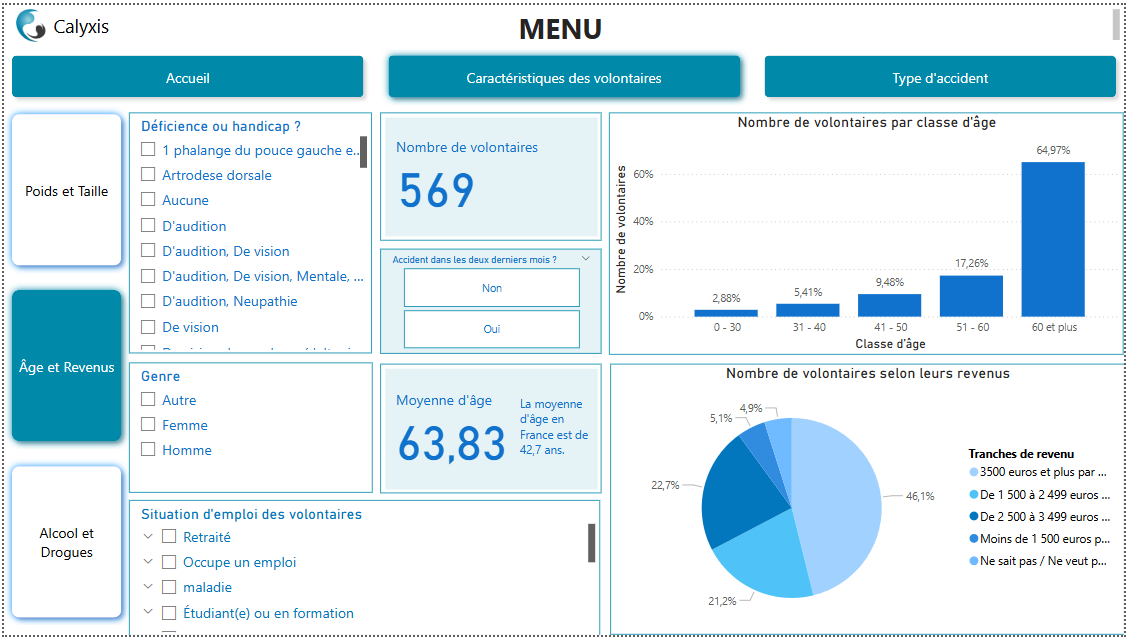

The page's visual inventory and layout, read from the dashboard file:
{"tool":"powerbi","page":{"name":"Caractéristiques des volontaires","canvas":[1280,720],"ordinal":1},"visuals":[{"type":"pageNavigator","box":[0,48.4,1280,66.4],"z":0},{"type":"textbox","box":[0,0,1280,48.6],"z":1000},{"type":"cardVisual","fields":{"Data":["CountNonNull(df_accident_complet.VOLONTAIRE N°)"]},"box":[429.5,123.3,253,146.7],"z":2000},{"type":"bookmarkNavigator","box":[0,115,143,594],"z":5000},{"type":"slicer","fields":{"Values":["df_accident_complet.Dans les deux dernier mois, avez-vous été victime d'un accident de la vie courante ?"]},"box":[429.5,278.5,253,120.1],"z":6000},{"type":"slicer","fields":{"Values":["df_bdq_nettoyé.Souffrez-vous d'une déficience ou d'un handicap ?"]},"box":[143.5,123.3,277.5,275.3],"z":7000},{"type":"image","box":[0,0,62.7,48.4],"z":12000},{"type":"textbox","box":[51.9,4.5,238.2,38.5],"z":13000},{"type":"clusteredColumnChart","title":"Nombre de volontaires par classe d''âge","fields":{"Category":["df_bdq_nettoyé.classe_age"],"Y":["CountNonNull(df_bdq_nettoyé.VOLONTAIRE N°)"]},"box":[691.9,123.3,588.1,276.5],"z":14000},{"type":"cardVisual","title":"moyenne d''age","fields":{"Data":["Avg(df_bdq_nettoyé.ÂGE)"]},"box":[430,410,253,148],"z":15000},{"type":"slicer","fields":{"Values":["df_bdq_nettoyé.GENRE"]},"box":[142.9,408.6,278.6,148.6],"z":18000},{"type":"textbox","title":"moyenneagetexte","box":[584,442,90,102],"z":19000},{"type":"pieChart","title":"Nombre de volontaires selon leurs revenus","fields":{"Category":["df_bdq_nettoyé.Parmi les tranches suivantes, dans laquelle se situe le revenu mensuel net de vo"],"Y":["CountNonNull(df_bdq_nettoyé.VOLONTAIRE N°)"]},"box":[692.4,410.2,587.6,309.2],"z":22000},{"type":"slicer","fields":{"Values":["df_bdq_nettoyé.Quelle est votre situation actuelle par rapport à l'emploi ? (groupes)","df_bdq_nettoyé.VOLONTAIRE N°"]},"box":[143.4,565.4,538.6,155],"z":23000}]}

Visuals, with their boxes in screenshot pixels (x1, y1, x2, y2), scaled from the page's 1280x720 canvas onto the 1126x638 screenshot:
pageNavigator: [left=0, top=43, right=1125, bottom=102]
textbox: [left=0, top=0, right=1125, bottom=43]
cardVisual - CountNonNull(df_accident_complet.VOLONTAIRE N°): [left=378, top=109, right=600, bottom=239]
bookmarkNavigator: [left=0, top=102, right=126, bottom=628]
slicer - df_accident_complet.Dans les deux dernier mois, avez-vous été victime d'un accident de la vie courante ?: [left=378, top=247, right=600, bottom=353]
slicer - df_bdq_nettoyé.Souffrez-vous d'une déficience ou d'un handicap ?: [left=126, top=109, right=370, bottom=353]
image: [left=0, top=0, right=55, bottom=43]
textbox: [left=46, top=4, right=255, bottom=38]
"Nombre de volontaires par classe d''âge" clusteredColumnChart: [left=609, top=109, right=1125, bottom=354]
"moyenne d''age" cardVisual: [left=378, top=363, right=601, bottom=494]
slicer - df_bdq_nettoyé.GENRE: [left=126, top=362, right=371, bottom=494]
"moyenneagetexte" textbox: [left=514, top=392, right=593, bottom=482]
"Nombre de volontaires selon leurs revenus" pieChart: [left=609, top=363, right=1125, bottom=637]
slicer - df_bdq_nettoyé.Quelle est votre situation actuelle par rapport à l'emploi ? (groupes) x df_bdq_nettoyé.VOLONTAIRE N°: [left=126, top=501, right=600, bottom=637]
